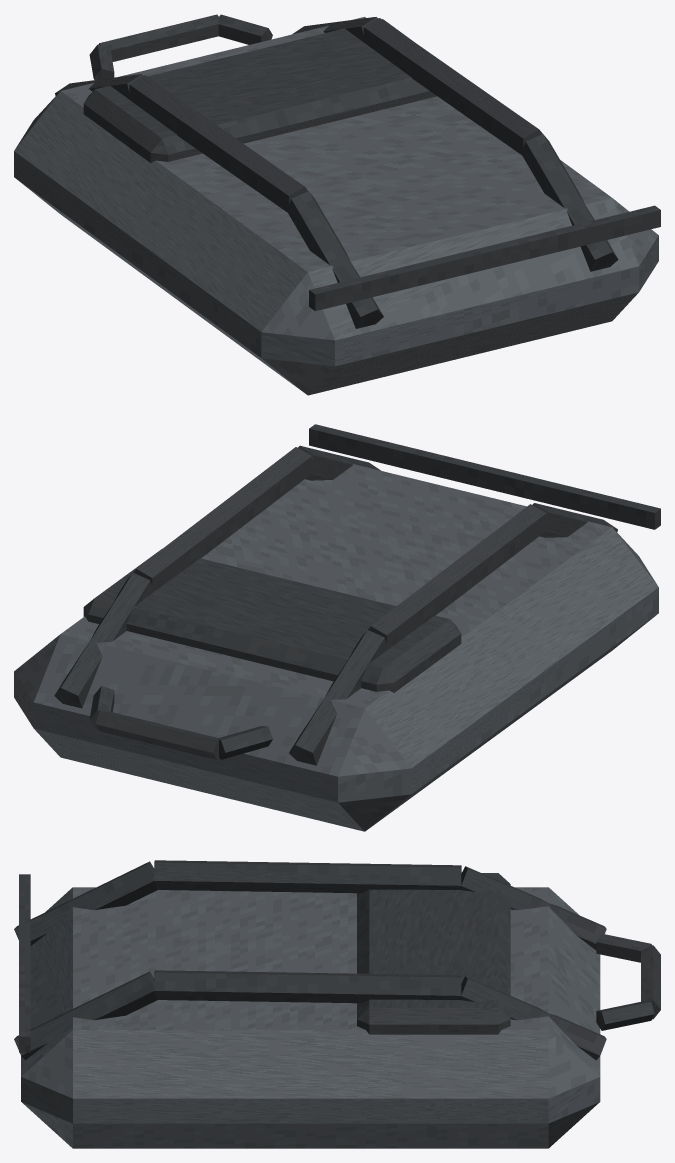
File: gas_mask_pouch.glb
3 views of the same model, one above another, from view 1: azimuth 30°, elevation 25°; view 2: azimuth 150°, elevation 25°; view 3: azimuth 270°, elevation 25° (orthographic). The views are drawn at different scales.
Parts seen in each view (by area): view 1: block_bag shell, block_foldover pouch flap, block_webbing strap 1 (×2), block_zipper, block_webbing strap 2 (×2), block_carry handle 1, block_webbing strap 0 (×2), block_carry handle 2, block_carry handle 0; view 2: block_bag shell, block_foldover pouch flap, block_webbing strap 1 (×2), block_zipper, block_webbing strap 0 (×2), block_carry handle 1, block_webbing strap 2 (×2), block_carry handle 0, block_carry handle 2; view 3: block_bag shell, block_foldover pouch flap, block_webbing strap 1 (×2), block_webbing strap 2 (×2), block_webbing strap 0 (×2), block_zipper, block_carry handle 2, block_carry handle 1, block_carry handle 0.
Boxes of the visible parts, box(x1,y1,x2,y2) form: block_bag shell: box(14, 17, 658, 395); block_foldover pouch flap: box(83, 19, 436, 162); block_webbing strap 1 (×2): box(129, 18, 542, 212); block_zipper: box(309, 205, 660, 311); block_webbing strap 2 (×2): box(286, 134, 618, 328); block_carry handle 1: box(98, 14, 218, 61); block_webbing strap 0 (×2): box(55, 17, 377, 100); block_carry handle 2: box(218, 14, 272, 44); block_carry handle 0: box(89, 44, 114, 79); block_bag shell: box(14, 464, 658, 831); block_foldover pouch flap: box(83, 549, 461, 692); block_webbing strap 1 (×2): box(133, 447, 546, 649); block_zipper: box(309, 424, 660, 529); block_webbing strap 0 (×2): box(54, 572, 388, 765); block_carry handle 1: box(95, 711, 218, 759); block_webbing strap 2 (×2): box(298, 445, 617, 537); block_carry handle 0: box(218, 726, 272, 759); block_carry handle 2: box(89, 686, 114, 729); block_bag shell: box(21, 887, 600, 1148); block_foldover pouch flap: box(357, 873, 510, 1034); block_webbing strap 1 (×2): box(154, 860, 461, 1003); block_webbing strap 2 (×2): box(14, 861, 157, 1059); block_webbing strap 0 (×2): box(460, 866, 606, 1060); block_zipper: box(19, 874, 30, 1052); block_carry handle 2: box(596, 1001, 654, 1030); block_carry handle 1: box(641, 945, 660, 1019); block_carry handle 0: box(596, 933, 651, 962).
Bounding box in the file's own units: 0.0872 × 0.0353 × 0.1279.
Materials: 1 (1 with a texture image).
